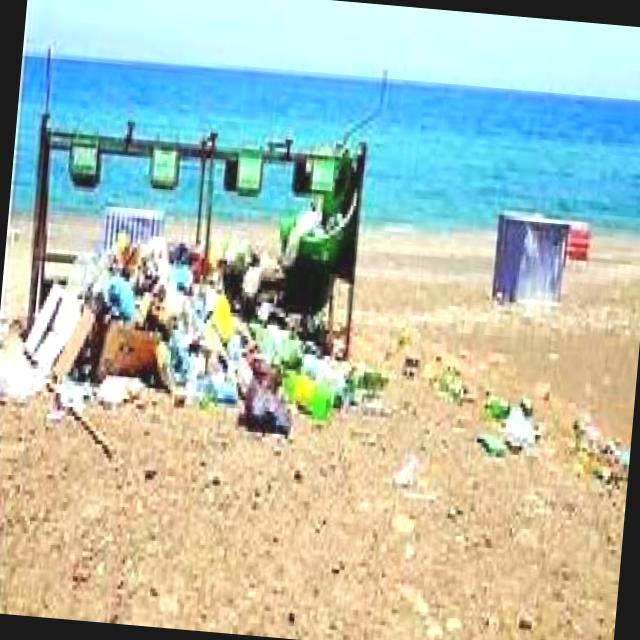garbage: (0, 198, 376, 487)
